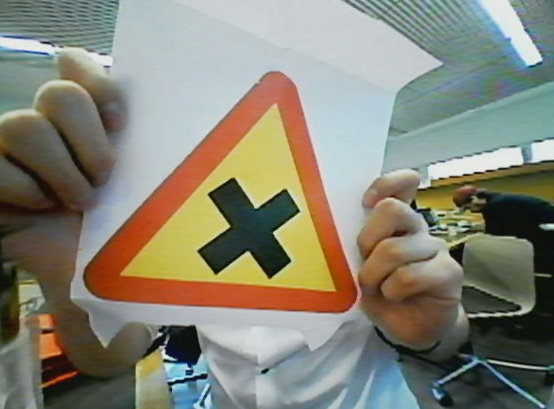junction: (99, 55, 361, 337)
